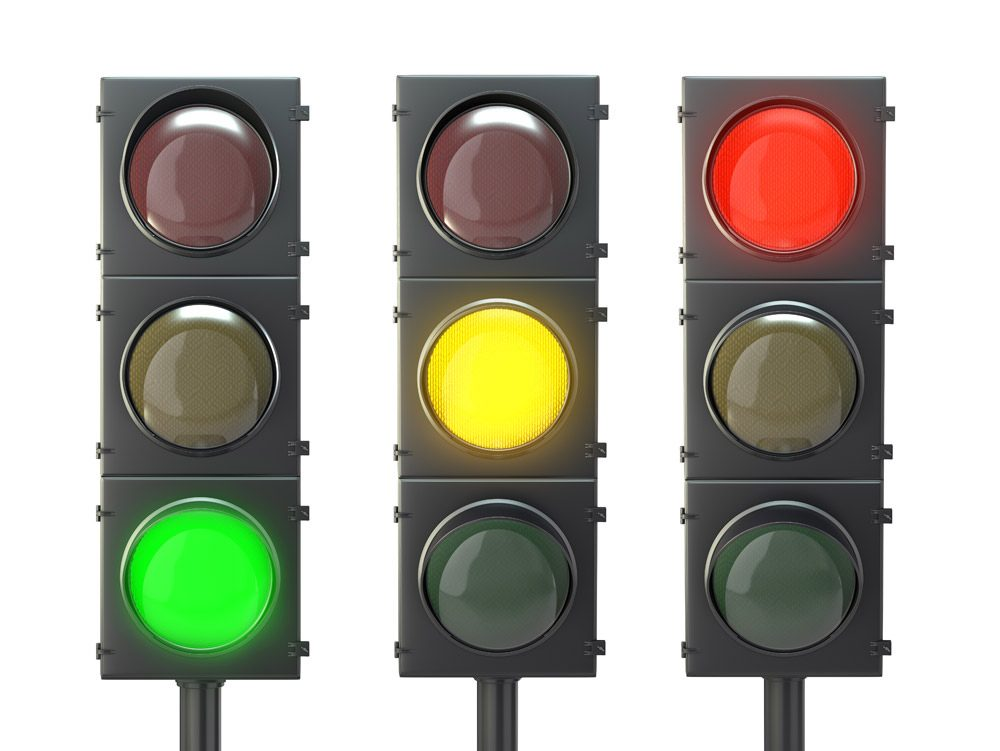trafficLight: (384, 66, 615, 691), (667, 70, 897, 689), (89, 72, 317, 688)
